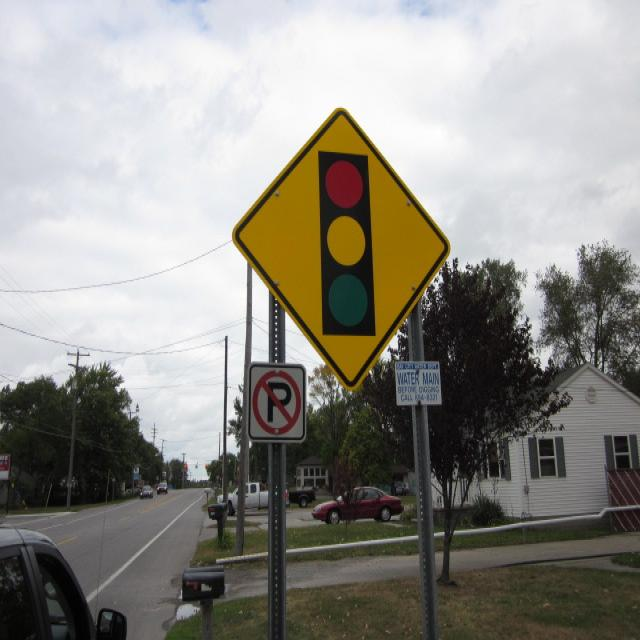regulatory: (242, 358, 314, 445)
warning: (226, 105, 448, 388)
